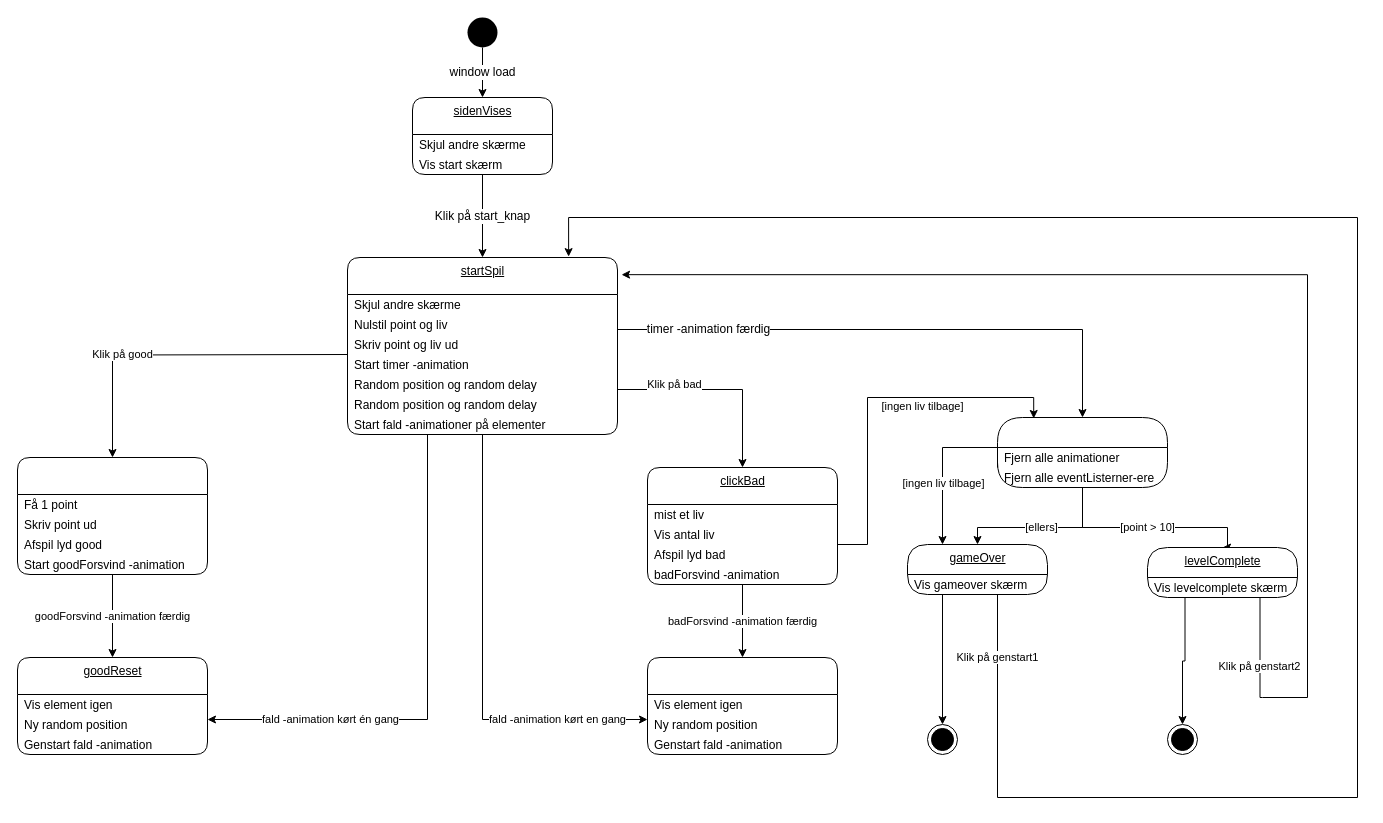
The diagram is 1383 pixels wide and 823 high, and some of its shapes have lost their labels. The box of each missing label's shape, as (x1, y1, x2, y2) in pixels:
badReset: (646, 656, 838, 754)
clickGood: (16, 456, 208, 574)
stopSpillet: (996, 416, 1168, 488)
